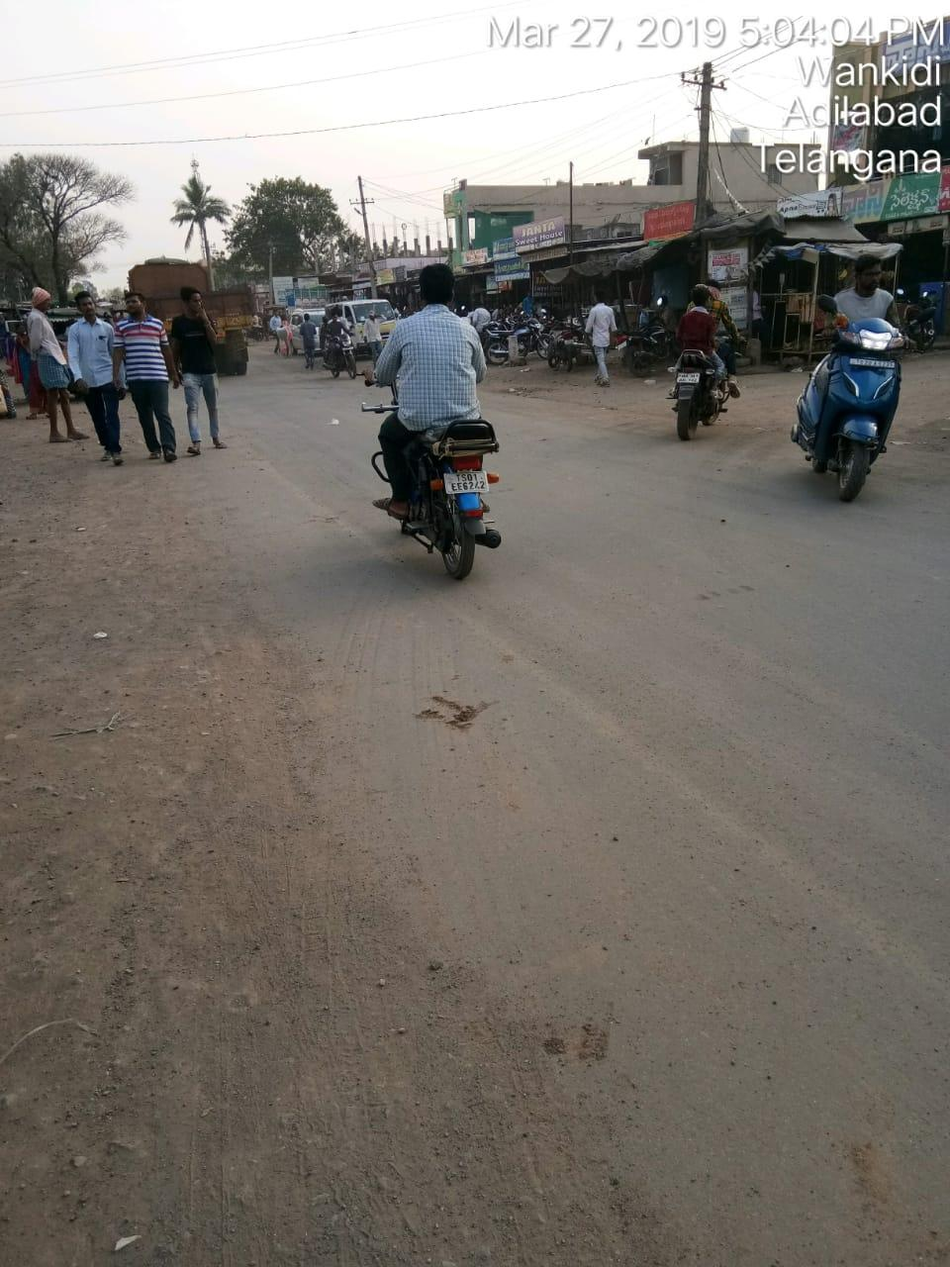plate: (437, 470, 501, 499), (841, 351, 898, 377), (672, 371, 706, 388)
